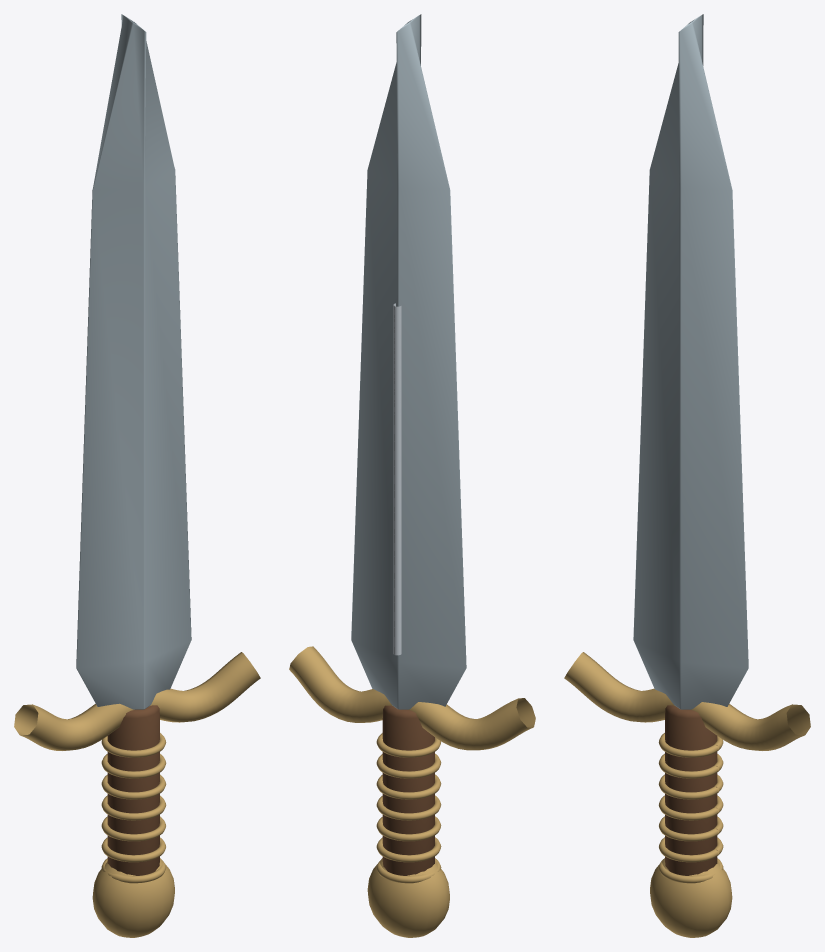
File: greatsword.glb
3 renders of one model, left to right at view 1: azimuth 30°, elevation 25°; view 2: azimuth 150°, elevation 25°; view 3: azimuth 330°, elevation 25°, orthographic.
Visible parts, largest first — view 1: Tempered diamond edge, Swept quillons, Leather grip, Pommel, Bound grip.002, Bound grip.003, Bound grip.004, Bound grip.005, Bound grip.001, Bound grip.006; view 2: Tempered diamond edge, Swept quillons, Leather grip, Pommel, Inlaid fuller, Bound grip.001, Bound grip.003, Bound grip.005, Bound grip.002, Bound grip.004, Bound grip.006; view 3: Tempered diamond edge, Swept quillons, Leather grip, Pommel, Bound grip.003, Bound grip.002, Bound grip.004, Bound grip.005, Bound grip.001, Bound grip.006.
Boxes of the visible parts, bbox=[...] form: Tempered diamond edge: bbox=[76, 14, 191, 709]; Swept quillons: bbox=[14, 652, 260, 750]; Leather grip: bbox=[107, 705, 159, 875]; Pommel: bbox=[92, 858, 174, 937]; Bound grip.002: bbox=[101, 816, 165, 841]; Bound grip.003: bbox=[101, 795, 166, 820]; Bound grip.004: bbox=[101, 774, 166, 799]; Bound grip.005: bbox=[101, 754, 166, 778]; Bound grip.001: bbox=[101, 837, 165, 862]; Bound grip.006: bbox=[101, 733, 166, 757]; Tempered diamond edge: bbox=[351, 14, 466, 709]; Swept quillons: bbox=[289, 646, 535, 750]; Leather grip: bbox=[382, 705, 434, 875]; Pommel: bbox=[367, 858, 449, 937]; Inlaid fuller: bbox=[393, 303, 401, 655]; Bound grip.001: bbox=[376, 837, 441, 862]; Bound grip.003: bbox=[376, 795, 441, 820]; Bound grip.005: bbox=[376, 753, 441, 778]; Bound grip.002: bbox=[376, 816, 441, 841]; Bound grip.004: bbox=[376, 774, 441, 799]; Bound grip.006: bbox=[376, 733, 440, 757]; Tempered diamond edge: bbox=[633, 14, 748, 709]; Swept quillons: bbox=[564, 652, 810, 750]; Leather grip: bbox=[665, 705, 717, 875]; Pommel: bbox=[650, 858, 732, 937]; Bound grip.003: bbox=[658, 795, 723, 820]; Bound grip.002: bbox=[659, 816, 723, 841]; Bound grip.004: bbox=[658, 774, 723, 799]; Bound grip.005: bbox=[658, 753, 723, 778]; Bound grip.001: bbox=[659, 837, 723, 862]; Bound grip.006: bbox=[658, 733, 723, 757].
Size of the model in its own units: 0.5744 by 2.09 by 0.15.
